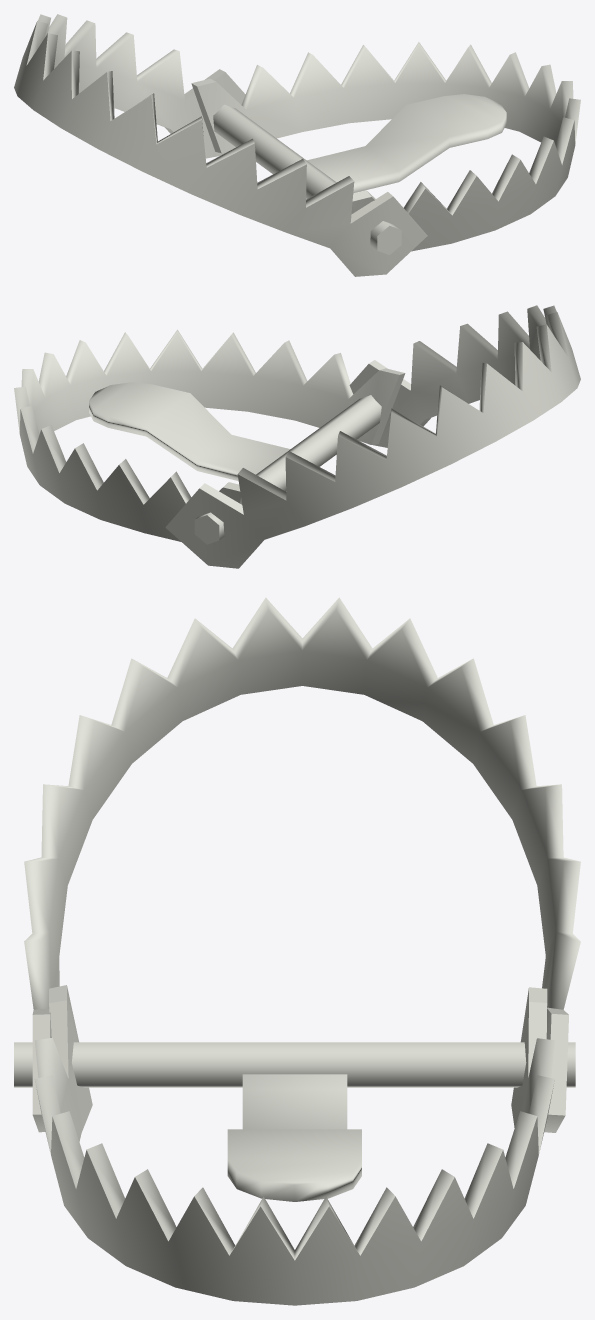
File: trap.fbx
3 renders of one model, top to bottom at view 1: azimuth 30°, elevation 25°; view 2: azimuth 150°, elevation 25°; view 3: azimuth 270°, elevation 25°, orthographic. The views are drawn at different scales.
Visible parts, largest first — view 1: node_id34, node_id36; view 2: node_id34, node_id36; view 3: node_id34, node_id36.
Boxes of the visible parts, bbox=[...] form: node_id34: bbox=[191, 42, 580, 254]; node_id36: bbox=[14, 14, 427, 276]; node_id34: bbox=[14, 329, 405, 544]; node_id36: bbox=[165, 305, 580, 568]; node_id34: bbox=[14, 985, 575, 1305]; node_id36: bbox=[24, 597, 580, 1132].
Bounding box in the file's own units: 0.512 × 0.2134 × 0.31.
2 materials, 2 textured.
